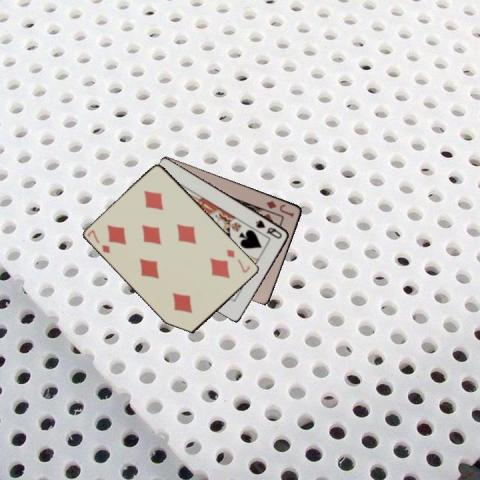7d: (223, 246, 252, 275), (85, 227, 112, 255)
Jd: (264, 197, 296, 219)
Qs: (253, 217, 283, 240)
